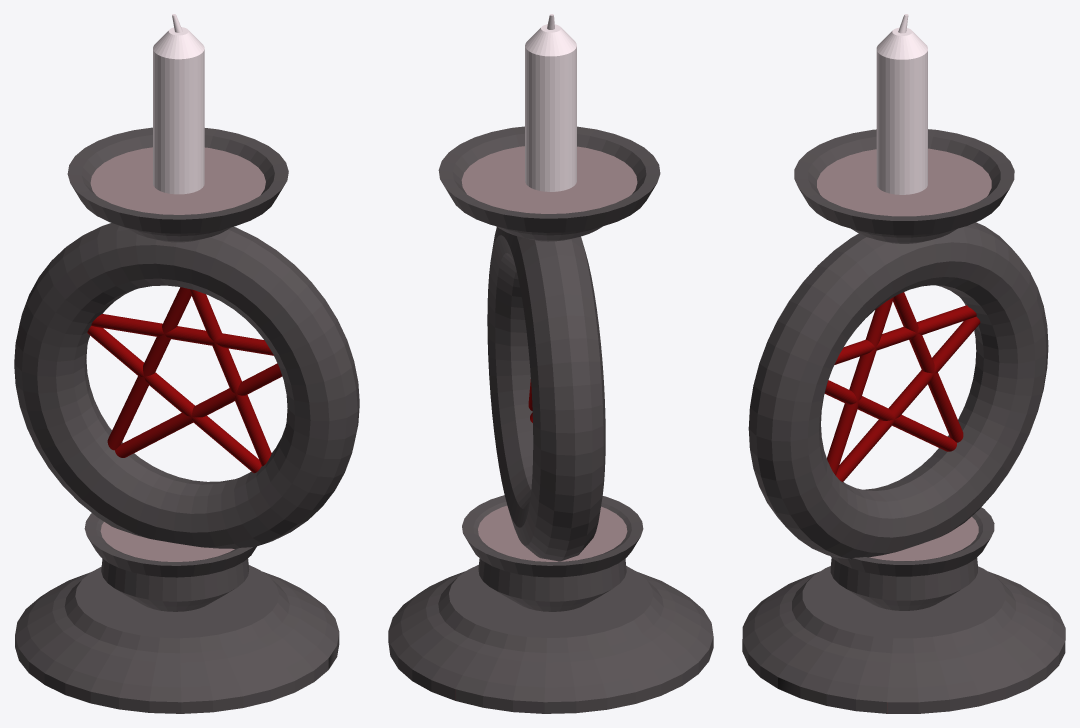
Rendered from JamiCandleFlipattu.fbx.
3 renders of one model, left to right at view 1: azimuth 30°, elevation 25°; view 2: azimuth 150°, elevation 25°; view 3: azimuth 270°, elevation 25°, orthographic.
Parts seen in each view (by area): view 1: Kynttila.001; view 2: Kynttila.001; view 3: Kynttila.001.
Boxes of the visible parts, x1=… form: Kynttila.001: x1=14, y1=14, x2=359, y2=713; Kynttila.001: x1=388, y1=14, x2=713, y2=713; Kynttila.001: x1=742, y1=14, x2=1065, y2=713.
Size of the model in its own units: 147 by 316 by 147.
